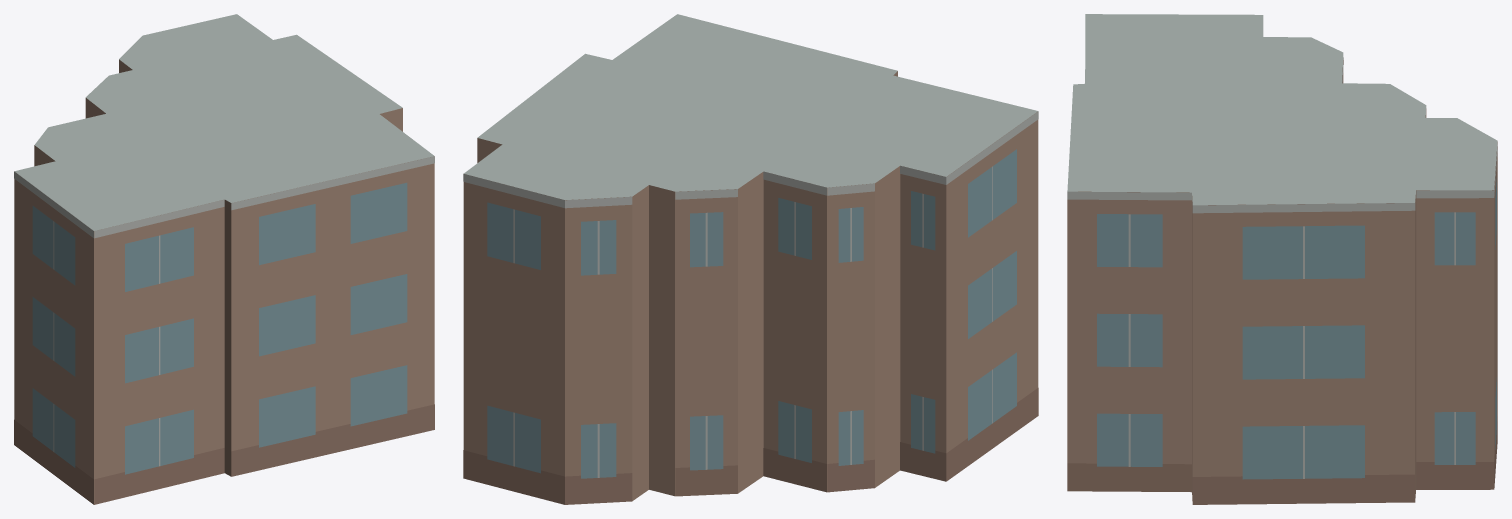
Rendered from survey-upis-32716637.glb.
3 views of the same model, side by side, from view 1: azimuth 30°, elevation 25°; view 2: azimuth 150°, elevation 25°; view 3: azimuth 270°, elevation 25° (orthographic). The views are drawn at different scales.
Visible parts, largest first — view 1: survey-upis-32716637.tmp; view 2: survey-upis-32716637.tmp; view 3: survey-upis-32716637.tmp.
Part boxes in pixels (x1,y1,x2,y2): survey-upis-32716637.tmp: [14, 14, 434, 504]; survey-upis-32716637.tmp: [463, 14, 1038, 504]; survey-upis-32716637.tmp: [1067, 14, 1497, 504].
Bounding box in the file's own units: 12.54 × 9.15 × 11.92.
